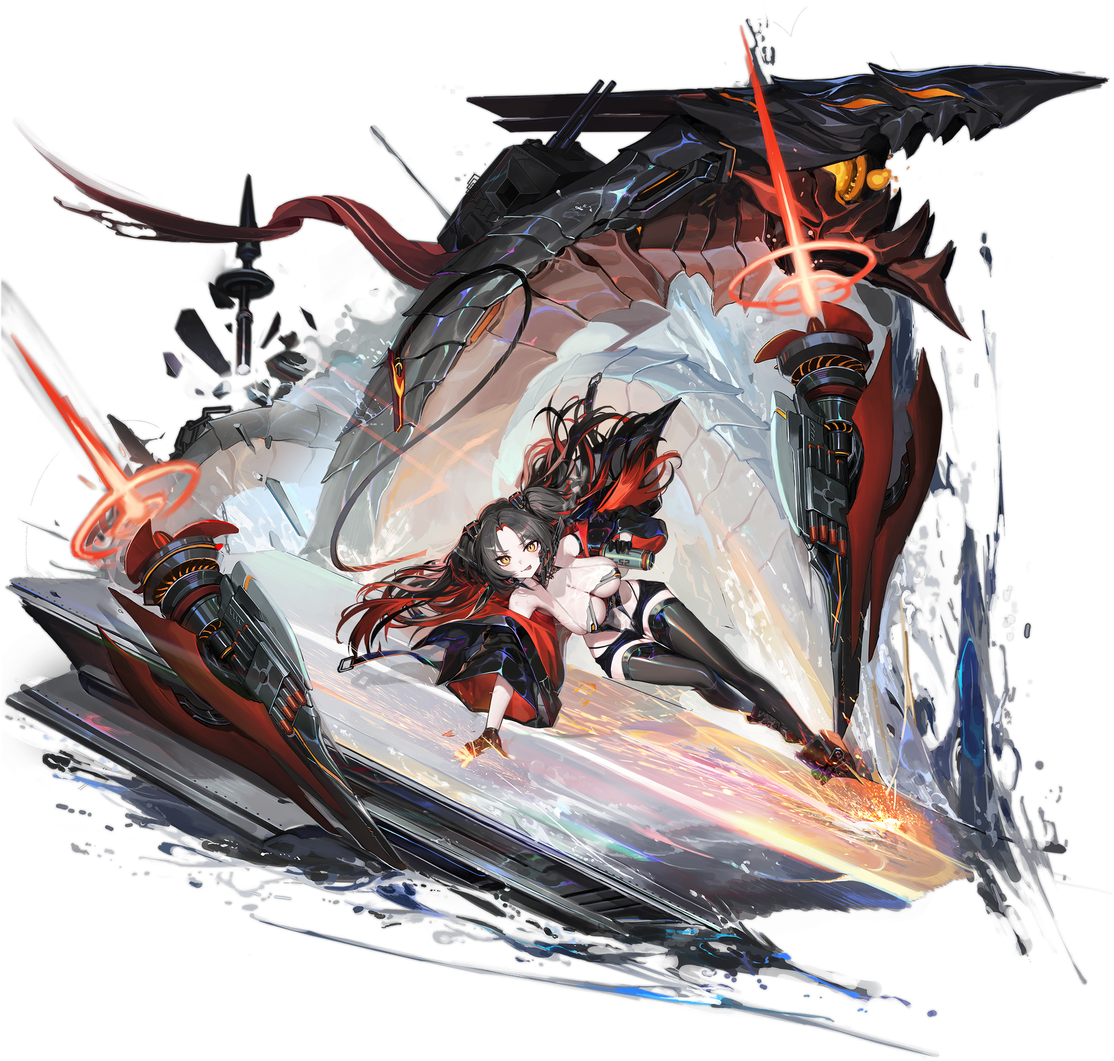person: (329, 477, 674, 801)
